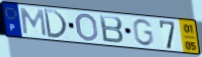7: (158, 19, 176, 50)
B: (98, 14, 126, 45)
D: (42, 8, 69, 40)
G: (131, 18, 155, 48)
M: (19, 7, 49, 38)
O: (75, 12, 100, 42)
